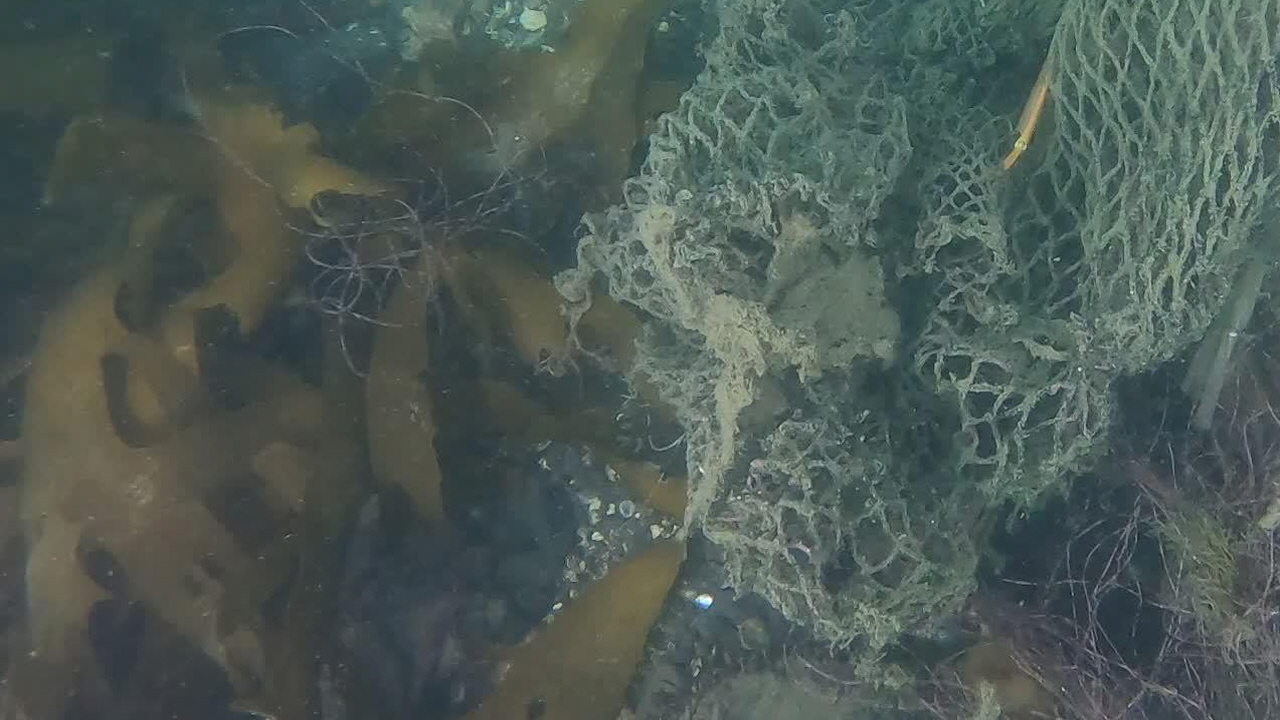fish net: (554, 0, 1280, 657)
